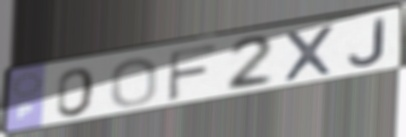0: (55, 66, 98, 118)
2: (225, 34, 277, 95)
F: (165, 42, 221, 104)
J: (346, 15, 388, 69)
O: (108, 56, 161, 108)
X: (281, 23, 337, 85)
